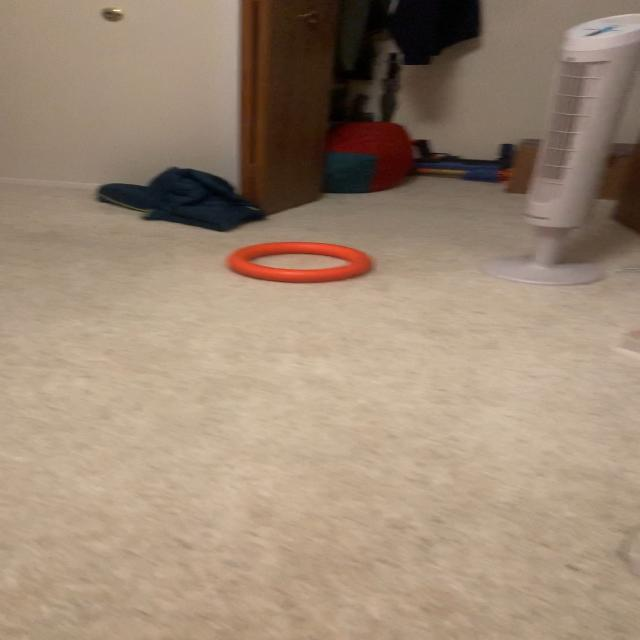notes: (228, 244, 372, 284)
